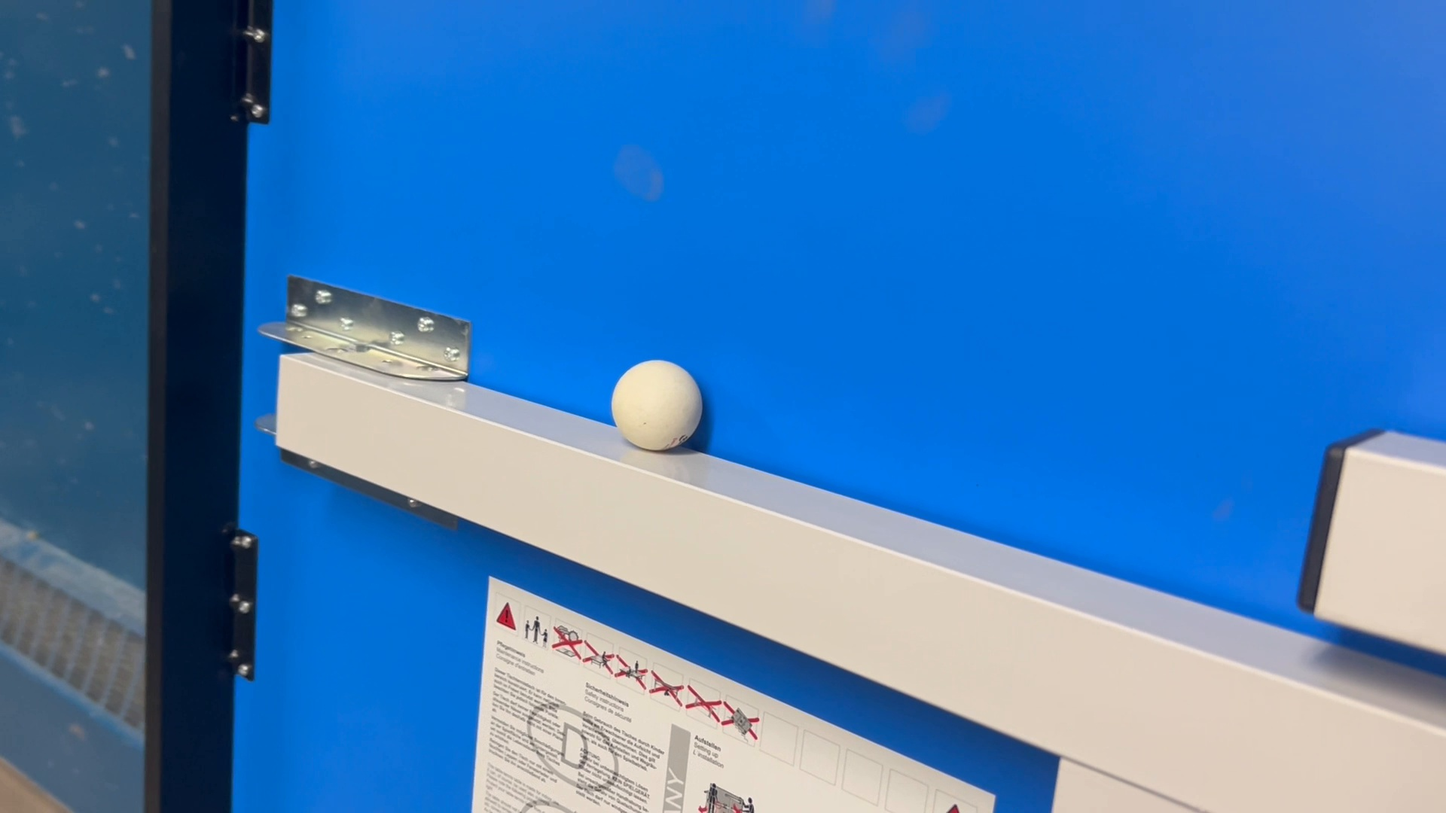Ball: (589, 353, 734, 450)
